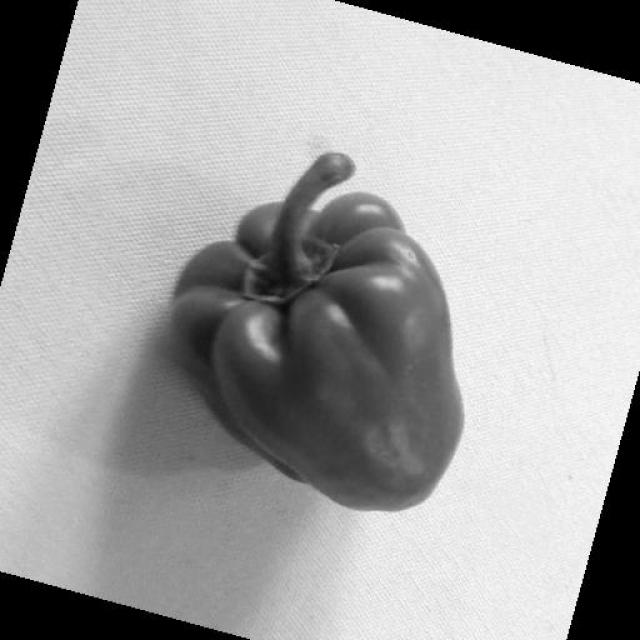Fresh_Capsicum: (180, 134, 472, 504)
